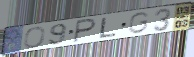3: (153, 7, 172, 32)
9: (48, 22, 69, 45)
G: (126, 11, 151, 35)
L: (98, 16, 118, 39)
O: (22, 26, 47, 49)
P: (72, 18, 98, 44)
